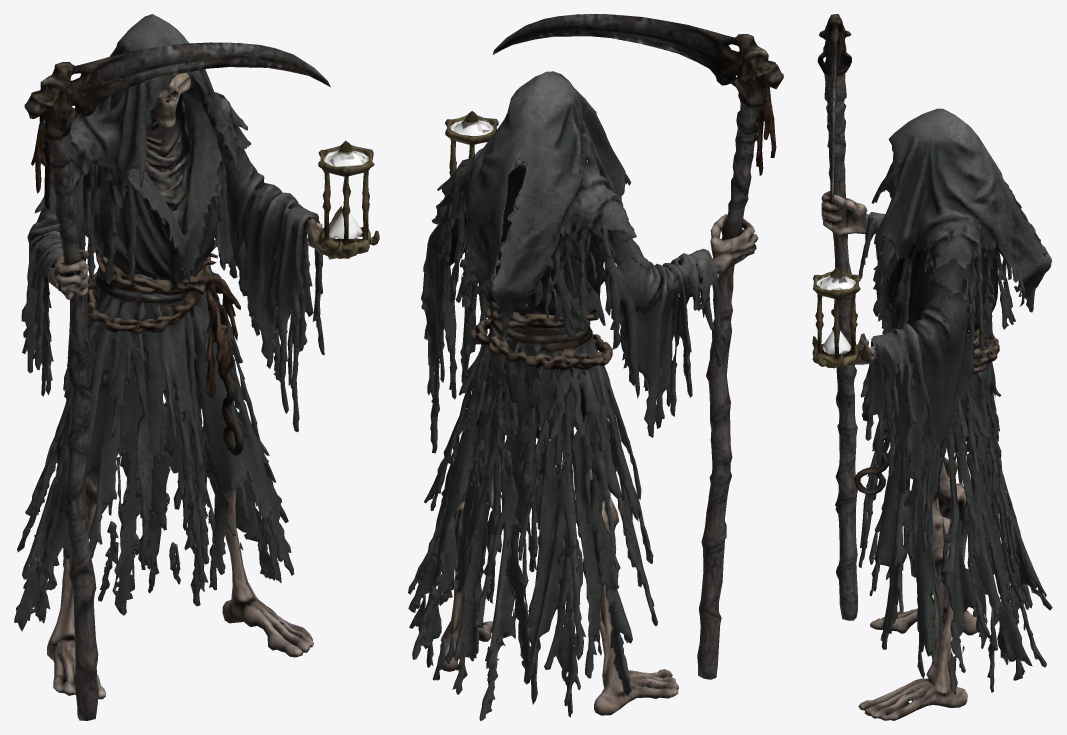
File: жнец.glb
The picture shows the model from 3 angles, left to right: view 1: azimuth 30°, elevation 25°; view 2: azimuth 150°, elevation 25°; view 3: azimuth 270°, elevation 25°; orthographic projection. The views are drawn at different scales.
Visible parts, largest first — view 1: geometry_0; view 2: geometry_0; view 3: geometry_0.
Part boxes in pixels (x1,y1,x2,y2): geometry_0: [14, 14, 379, 720]; geometry_0: [408, 14, 783, 720]; geometry_0: [812, 14, 1052, 720].
Size of the model in its own units: 0.5435 by 1 by 0.3703.
Materials: 1 (1 with a texture image).
